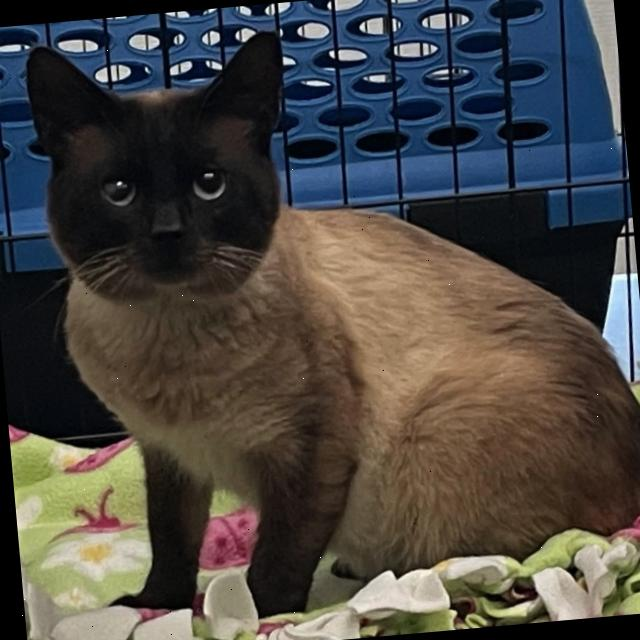siamese_cat: (0, 7, 346, 404)
